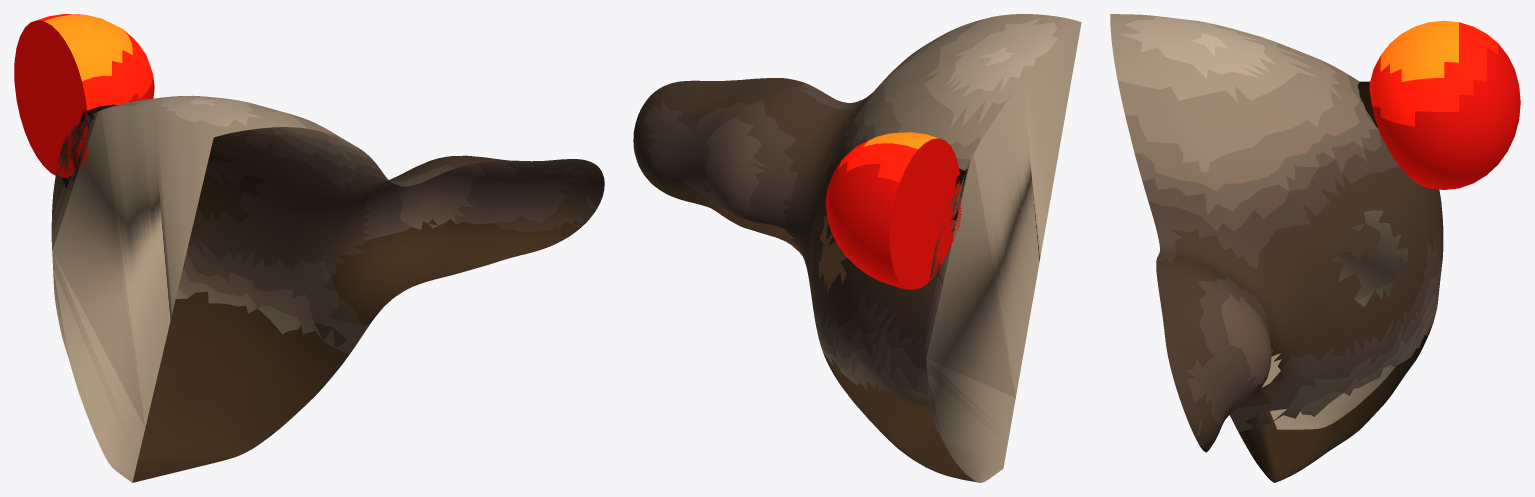
Rendered from tan_dome_167.glb.
3 renders of one model, left to right at view 1: azimuth 30°, elevation 25°; view 2: azimuth 150°, elevation 25°; view 3: azimuth 270°, elevation 25°, orthographic. The views are drawn at different scales.
Visible parts, largest first — view 1: tan_dome_167; view 2: tan_dome_167; view 3: tan_dome_167.
Boxes of the visible parts, x1=… form: tan_dome_167: x1=14, y1=14, x2=604, y2=482; tan_dome_167: x1=633, y1=14, x2=1081, y2=482; tan_dome_167: x1=1110, y1=14, x2=1520, y2=482.
Size of the model in its own units: 17.87 by 16.19 by 14.48.
